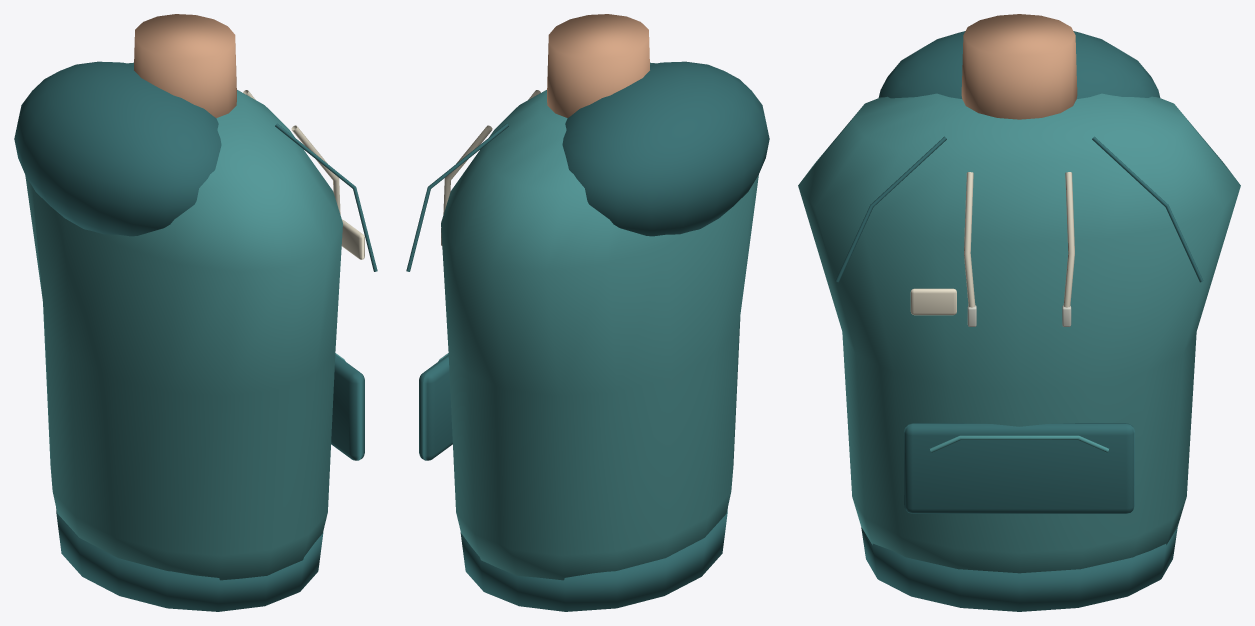
Rendered from SM_Hider_Torso.glb.
3 views of the same model, side by side, from view 1: azimuth 30°, elevation 25°; view 2: azimuth 150°, elevation 25°; view 3: azimuth 270°, elevation 25° (orthographic).
Visible parts, largest first — view 1: SM_Hider_Torso; view 2: SM_Hider_Torso; view 3: SM_Hider_Torso.
Part boxes in pixels (x1,y1,x2,y2): SM_Hider_Torso: [14, 14, 377, 611]; SM_Hider_Torso: [406, 14, 769, 611]; SM_Hider_Torso: [798, 14, 1240, 611].
Bounding box in the file's own units: 0.3315 × 0.585 × 0.45.
